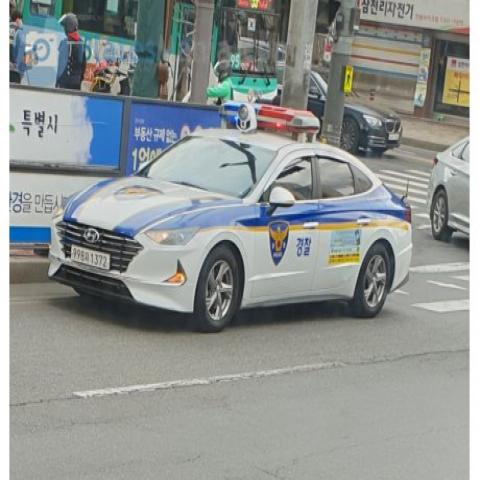LP: (65, 236, 115, 278)
